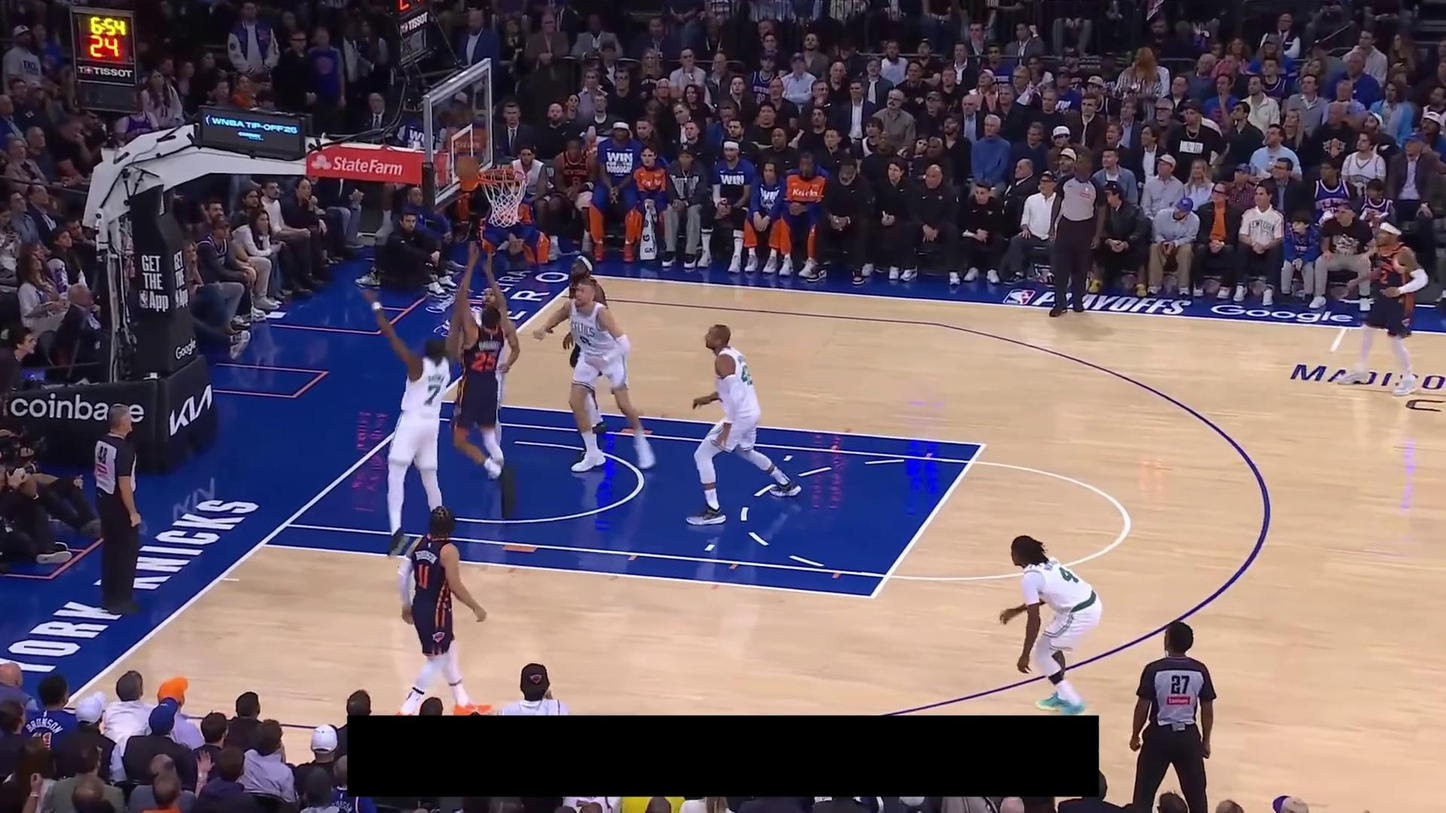ball: (456, 155, 479, 179)
number: (472, 350, 499, 368), (423, 383, 442, 406), (1058, 565, 1079, 584), (416, 563, 431, 589), (578, 333, 591, 348), (1380, 269, 1388, 284)
player: (362, 286, 467, 557), (532, 279, 657, 473), (685, 322, 802, 528), (394, 504, 496, 717), (999, 534, 1105, 715), (452, 238, 517, 519), (1335, 218, 1429, 397), (469, 287, 522, 479), (562, 251, 609, 462)
referee: (1128, 620, 1217, 813), (92, 403, 147, 614), (1045, 148, 1109, 318)
rim: (476, 166, 526, 184)
